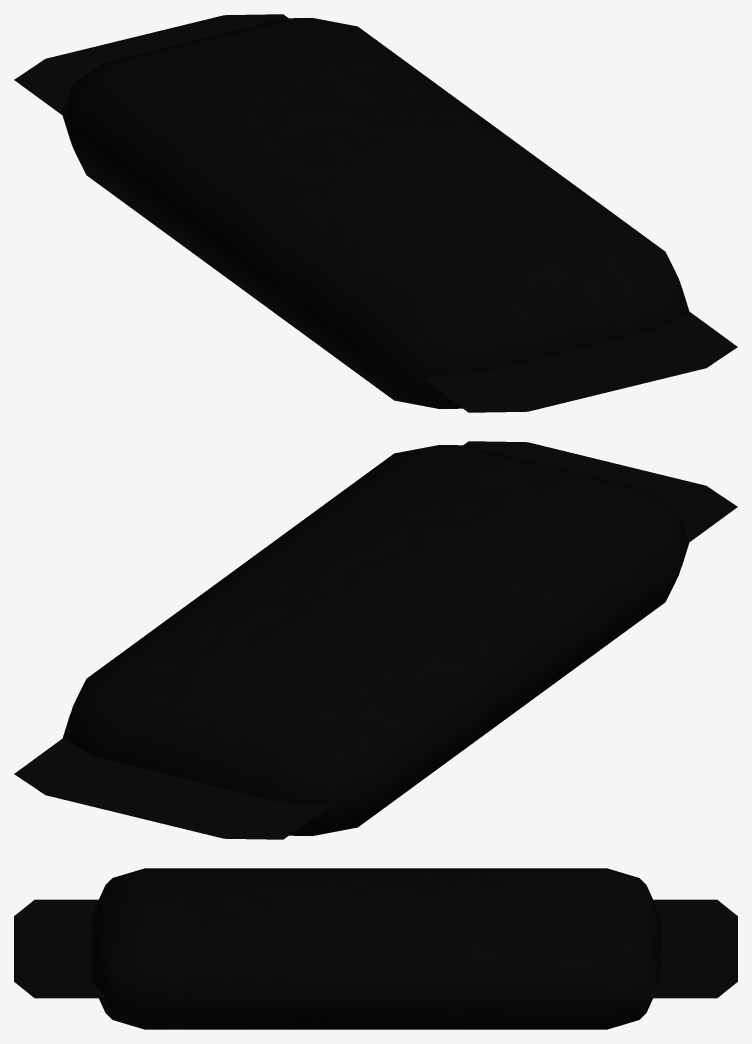
The model's file is Candy UCN.fbx.
The picture shows the model from 3 angles, top to bottom: view 1: azimuth 30°, elevation 25°; view 2: azimuth 150°, elevation 25°; view 3: azimuth 270°, elevation 25°; orthographic projection. The views are drawn at different scales.
Visible parts, largest first — view 1: Candy UCN; view 2: Candy UCN; view 3: Candy UCN.
Part boxes in pixels (x1=…): Candy UCN: x1=14, y1=14, x2=737, y2=412; Candy UCN: x1=14, y1=441, x2=737, y2=839; Candy UCN: x1=14, y1=868, x2=737, y2=1029.
Size of the model in its own units: 9.43 by 3.59 by 25.69.
